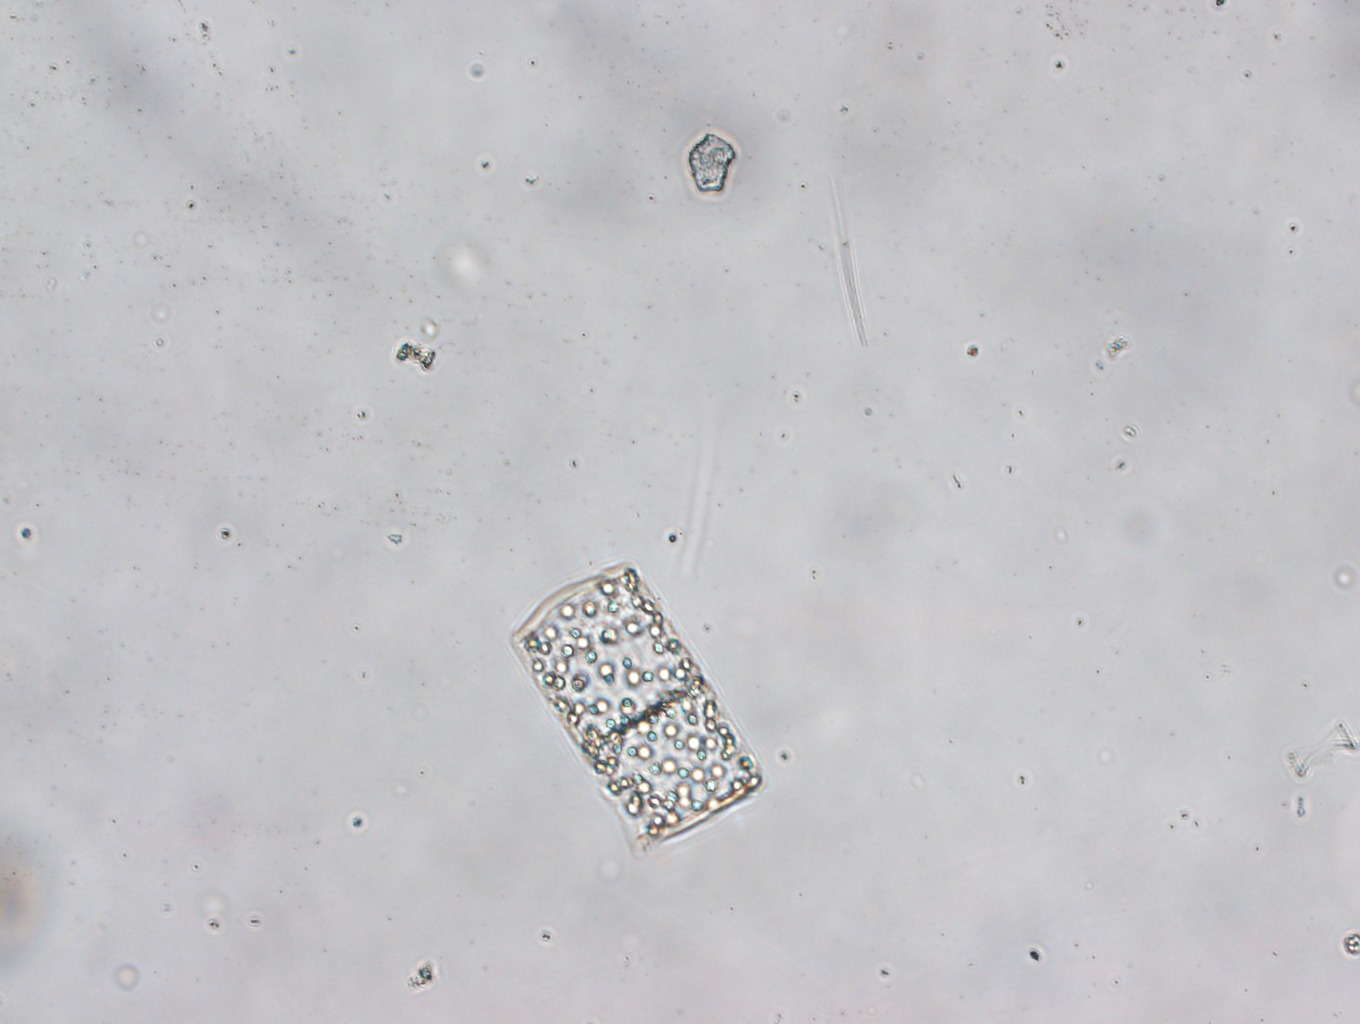guinardia flaccida: (509, 557, 768, 848)
